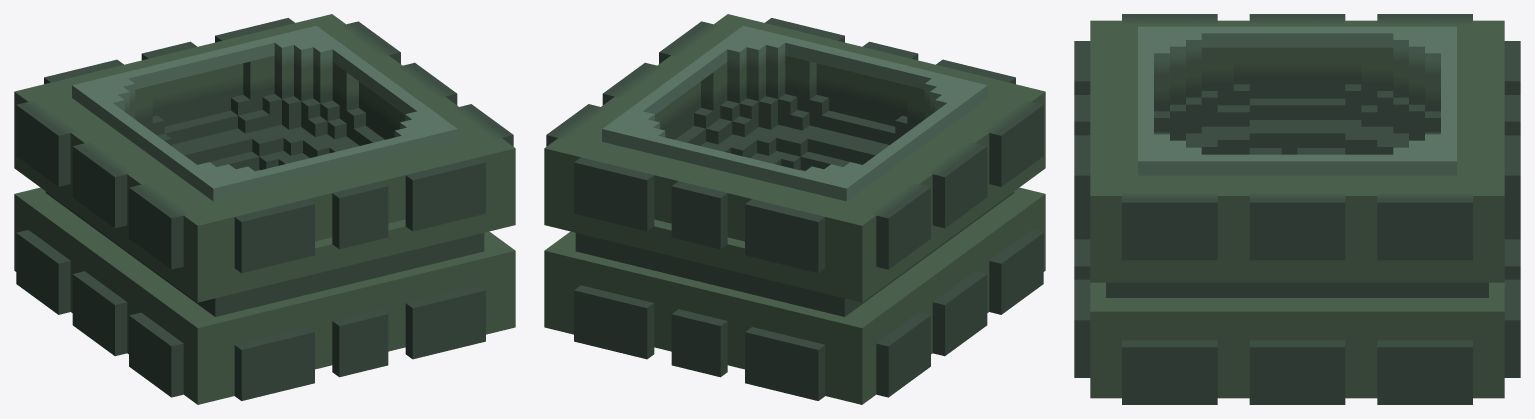
The model's file is podium_green.fbx.
3 renders of one model, left to right at view 1: azimuth 30°, elevation 25°; view 2: azimuth 150°, elevation 25°; view 3: azimuth 270°, elevation 25°, orthographic. The views are drawn at different scales.
Visible parts, largest first — view 1: podium_green; view 2: podium_green; view 3: podium_green.
Boxes of the visible parts, box(x1,y1,x2,y2) form: podium_green: box(14, 14, 515, 404); podium_green: box(544, 14, 1045, 404); podium_green: box(1074, 14, 1520, 404).
Size of the model in its own units: 28 by 15 by 28.
Materials: 1 (1 with a texture image).
